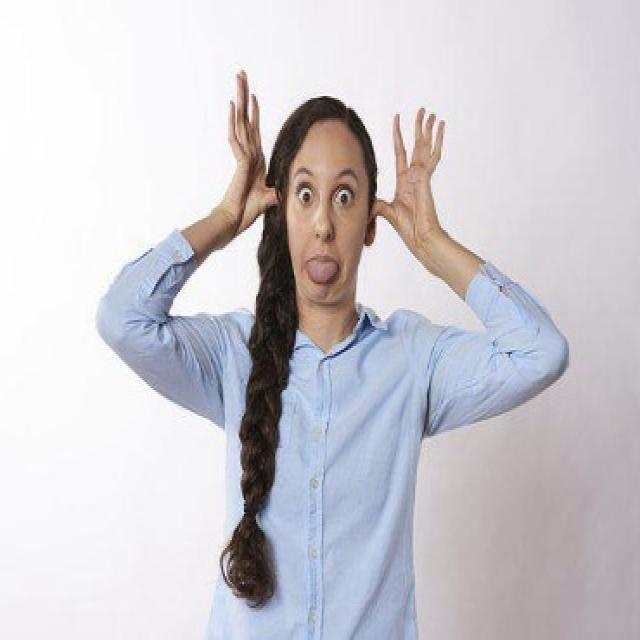adult: (92, 67, 571, 640)
